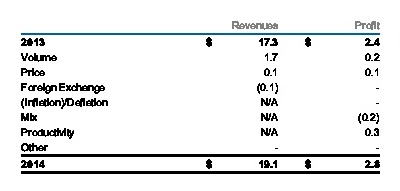table: (0, 0, 400, 191)
